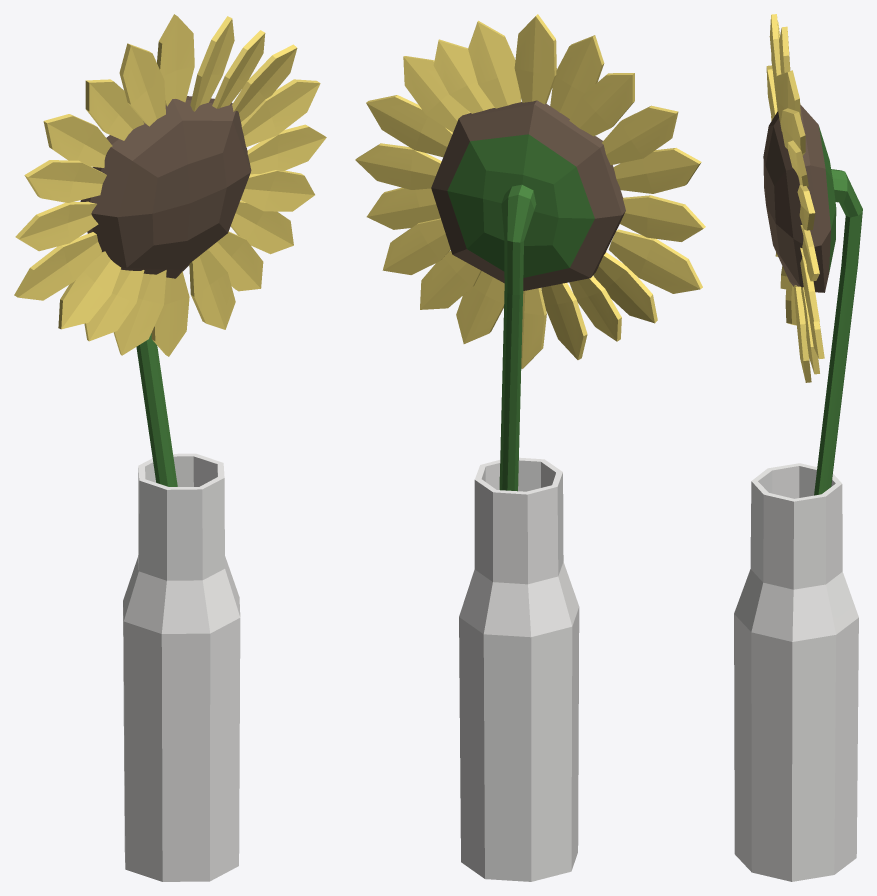
Rendered from Flower_Vase_with_sunflower_231109.glb.
The picture shows the model from 3 angles, left to right: view 1: azimuth 30°, elevation 25°; view 2: azimuth 150°, elevation 25°; view 3: azimuth 270°, elevation 25°; orthographic projection. The views are drawn at different scales.
Visible parts, largest first — view 1: Vase_with_sunflower; view 2: Vase_with_sunflower; view 3: Vase_with_sunflower.
Boxes of the visible parts, x1=… form: Vase_with_sunflower: x1=14, y1=14, x2=326, y2=881; Vase_with_sunflower: x1=355, y1=14, x2=705, y2=881; Vase_with_sunflower: x1=734, y1=14, x2=862, y2=881.
Size of the model in its own units: 0.2792 by 0.6874 by 0.0972.
Materials: 1 (1 with a texture image).
